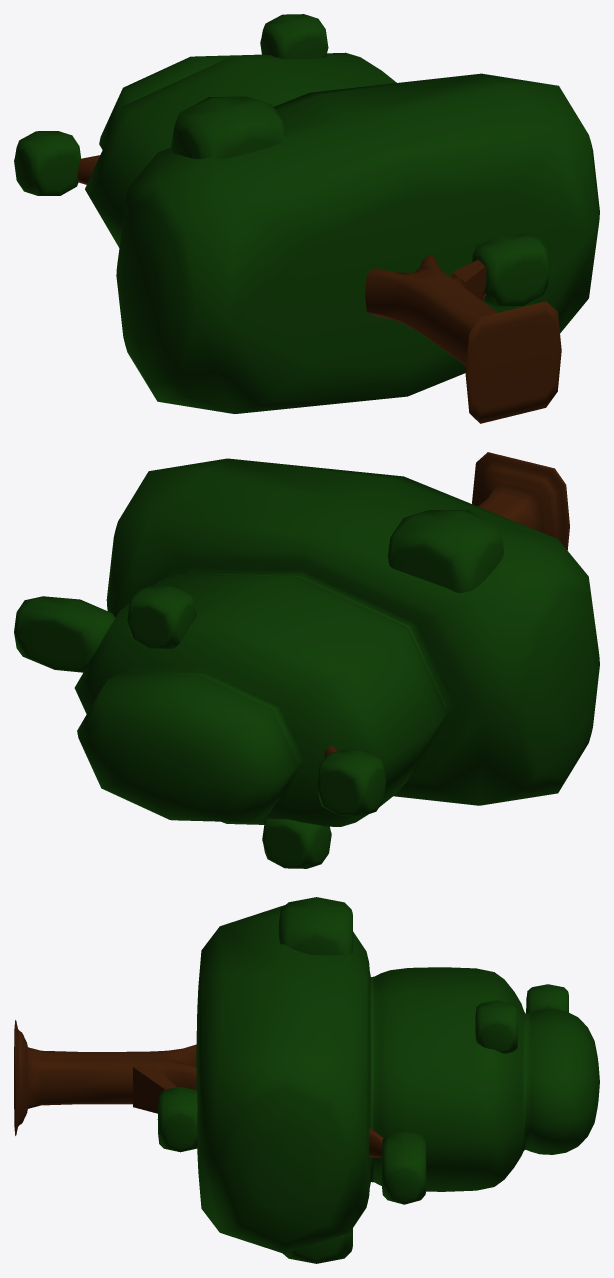
File: Tree6.FBX
The picture shows the model from 3 angles, top to bottom: view 1: azimuth 30°, elevation 25°; view 2: azimuth 150°, elevation 25°; view 3: azimuth 270°, elevation 25°; orthographic projection. The views are drawn at different scales.
Visible parts, largest first — view 1: Box012; view 2: Box012; view 3: Box012.
Part boxes in pixels (x1,y1,x2,y2): Box012: [14, 14, 599, 423]; Box012: [14, 452, 599, 868]; Box012: [14, 897, 599, 1263].
Size of the model in its own units: 91.63 by 116 by 55.65.
